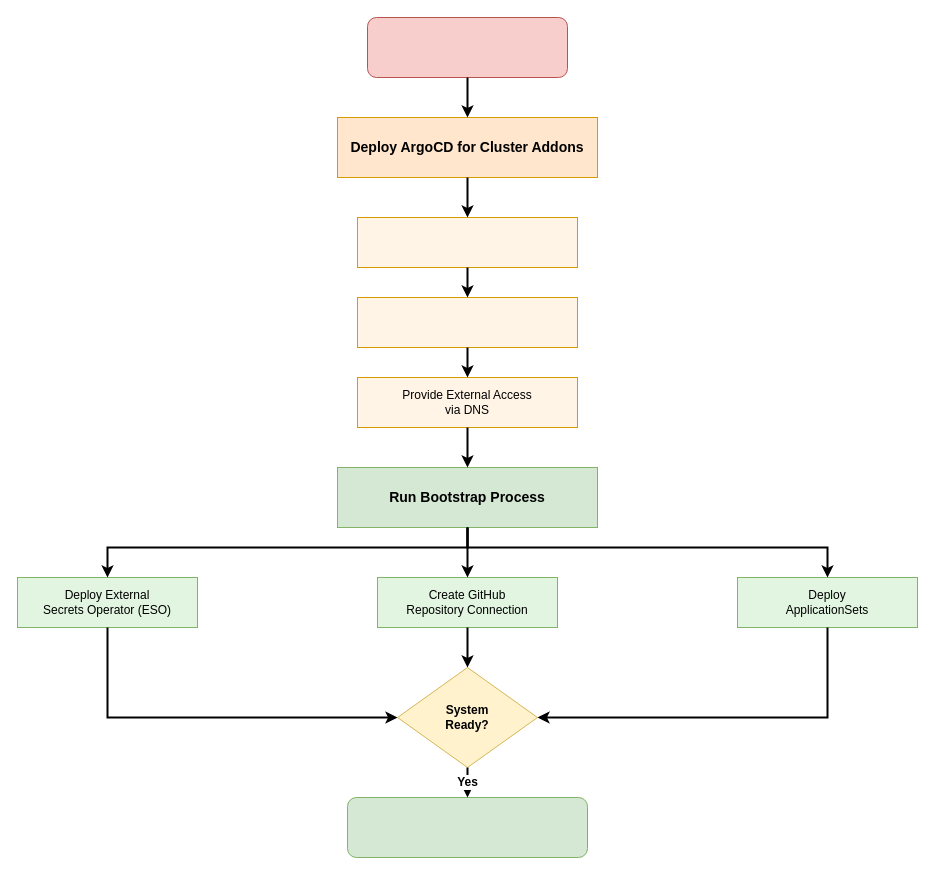
Some shapes in this 935 by 875 pixel diagram are drawn without their labels. Each missing label, with the centre of its shape:
"ArgoCD Manager deploys ArgoCD instance" belongs at (x=467, y=242).
"ArgoCD Ready to Manage Clusters" belongs at (x=467, y=827).
"Configure RBAC & High Availability" belongs at (x=467, y=322).
"Nothing Exists" belongs at (x=467, y=47).
